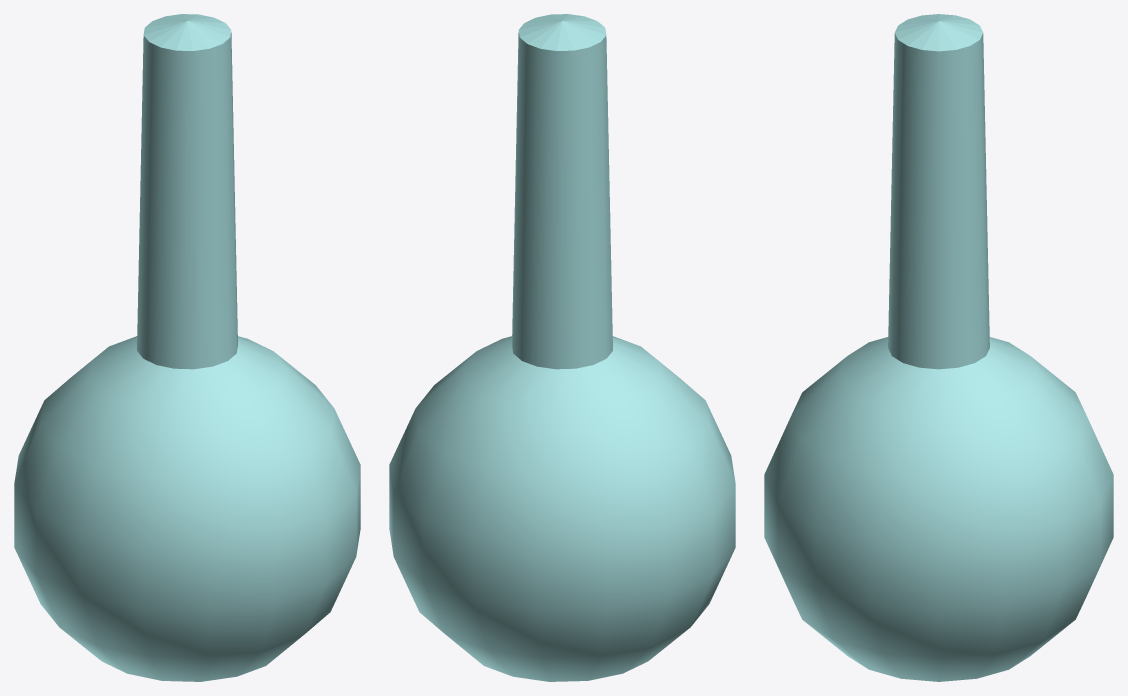
The model's file is smartTestPoison.fbx.
The picture shows the model from 3 angles, left to right: view 1: azimuth 30°, elevation 25°; view 2: azimuth 150°, elevation 25°; view 3: azimuth 270°, elevation 25°; orthographic projection.
Parts seen in each view (by area): view 1: Sphere.001; view 2: Sphere.001; view 3: Sphere.001.
Part boxes in pixels (left/top/right/bottom): Sphere.001: left=14, top=14, right=360, bottom=681; Sphere.001: left=389, top=14, right=735, bottom=681; Sphere.001: left=764, top=14, right=1113, bottom=681.
Size of the model in its own units: 174 by 354 by 174.
